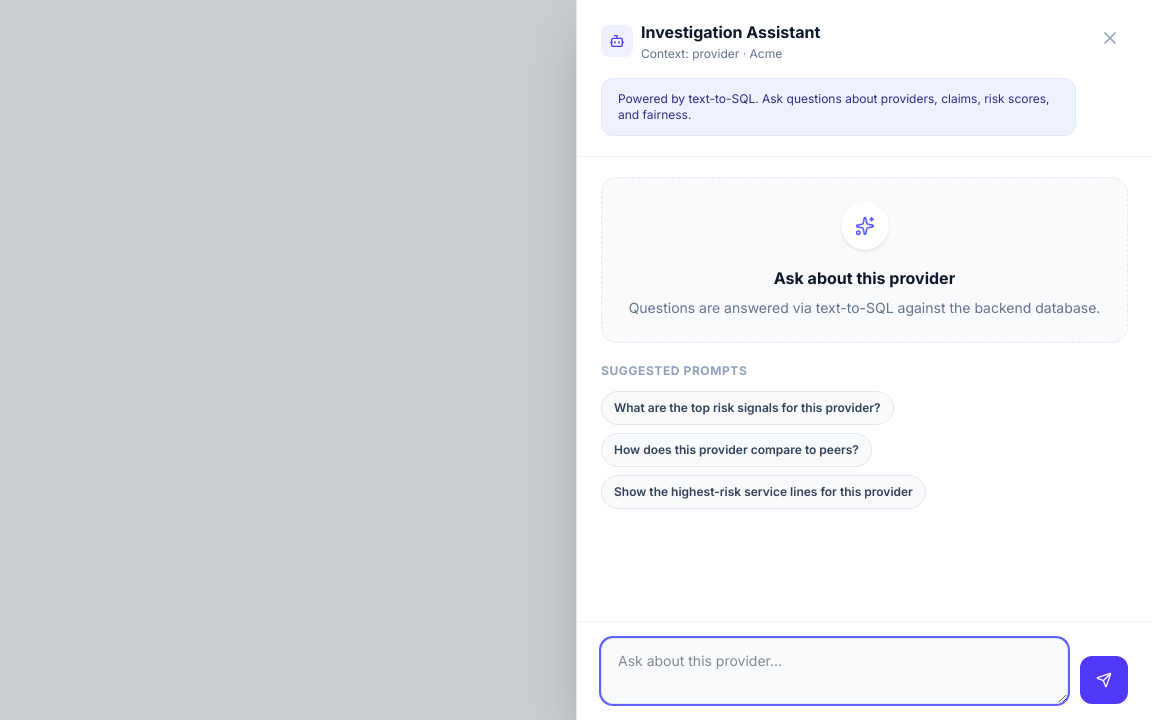
Test: AssistantDrawer › displays SQL block in response
The image size is (1152, 720).
Type "Show query" into the text box with placeholder "Ask about this provider..." at (834, 671), box [601,638,1068,704]
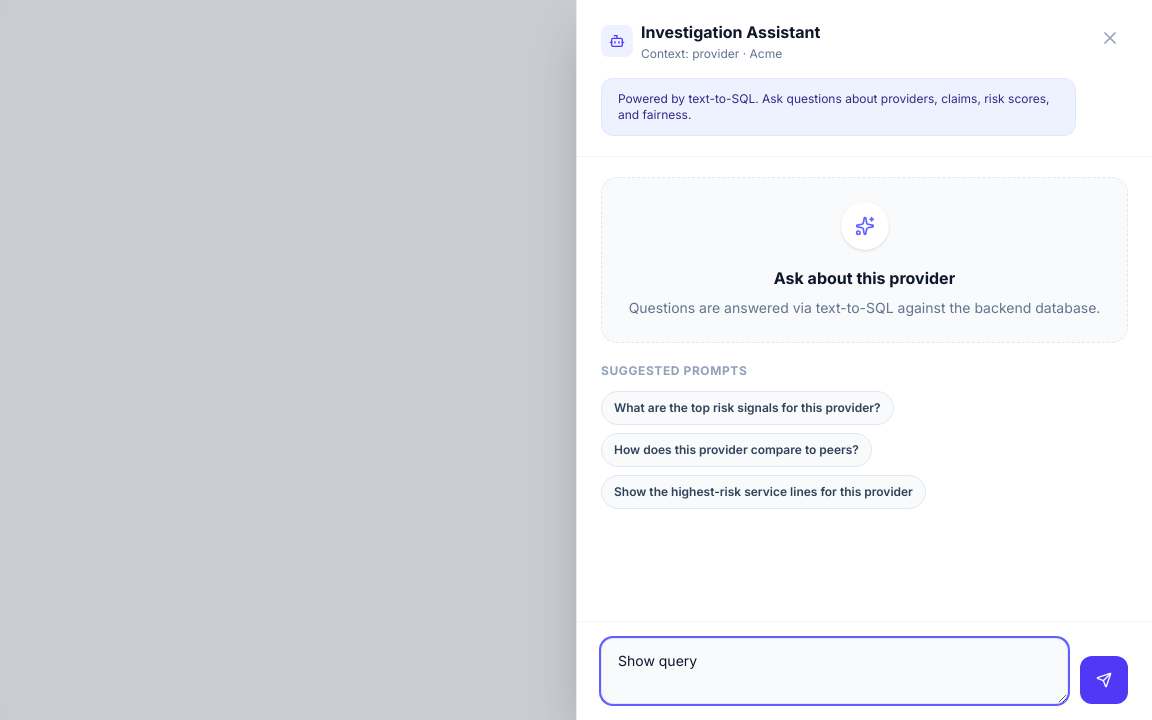
Press Enter
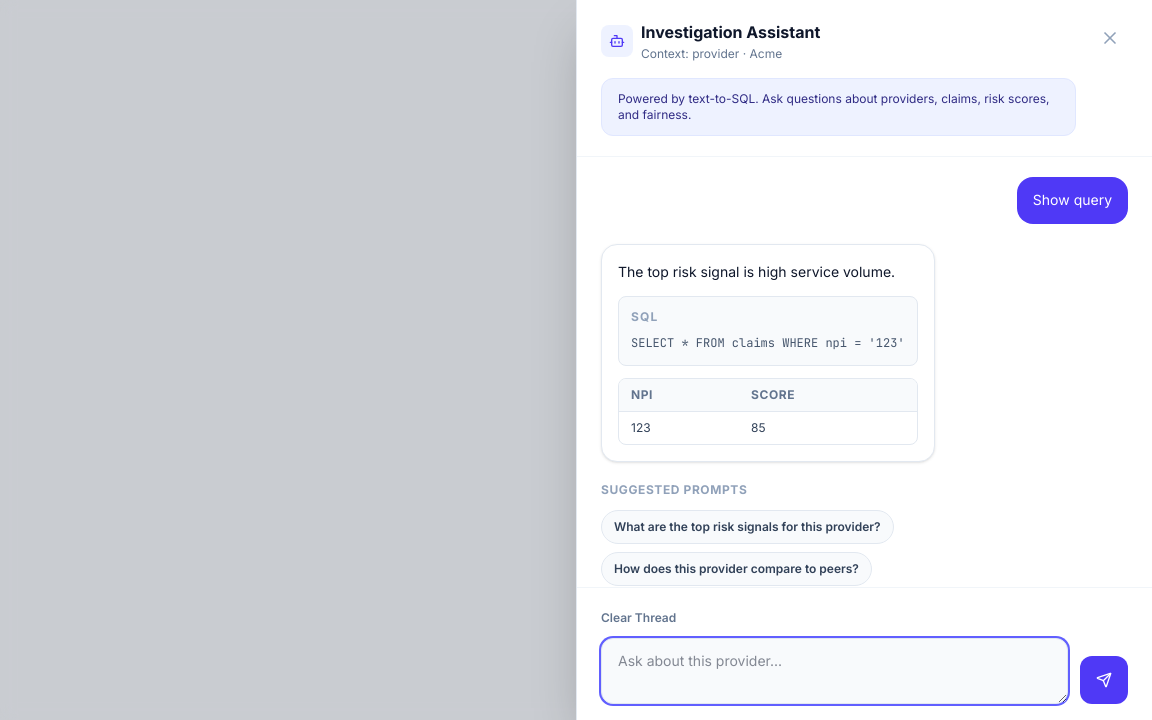
Now the text "SELECT * FROM claims WHERE npi = '123'" is shown, box [631,334,905,350]
